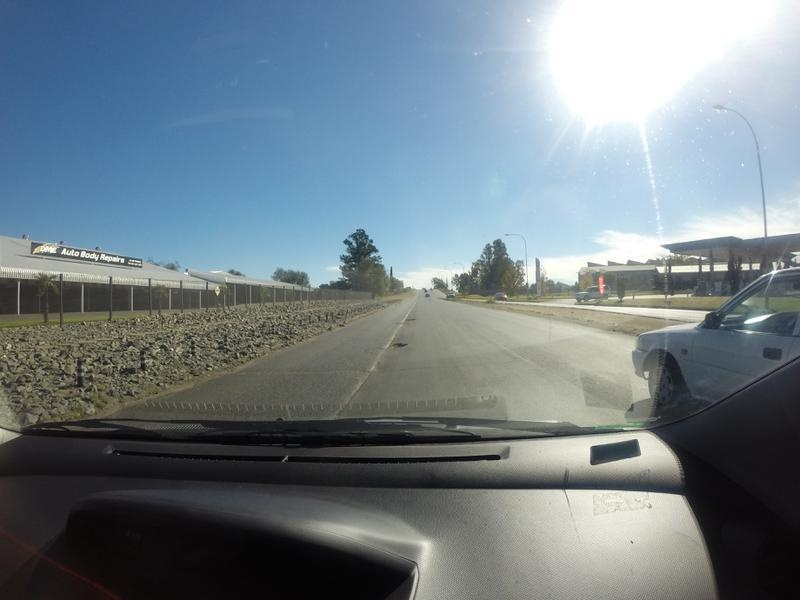pothole: (388, 342, 412, 346), (404, 317, 421, 320)
